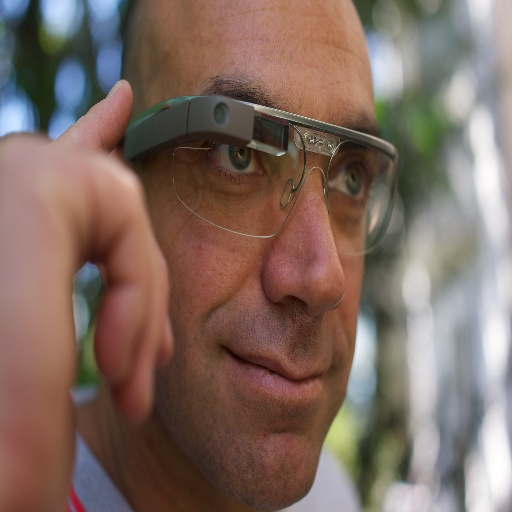hand: (0, 90, 189, 450)
